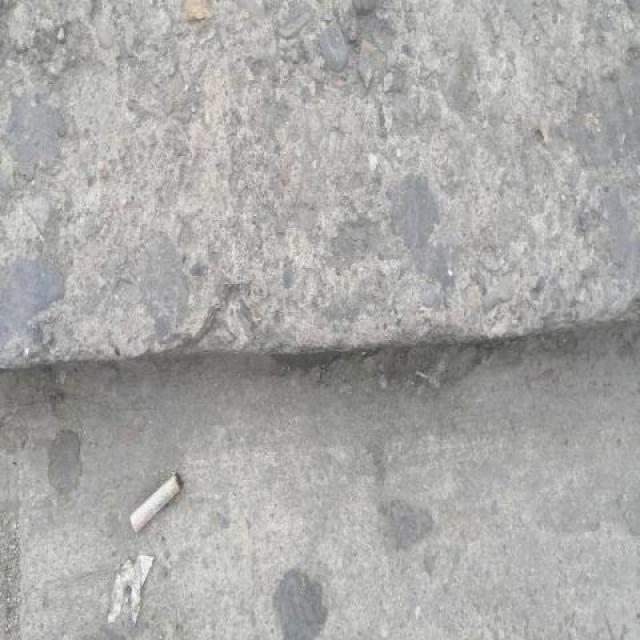non-organic waste: (129, 466, 187, 538)
